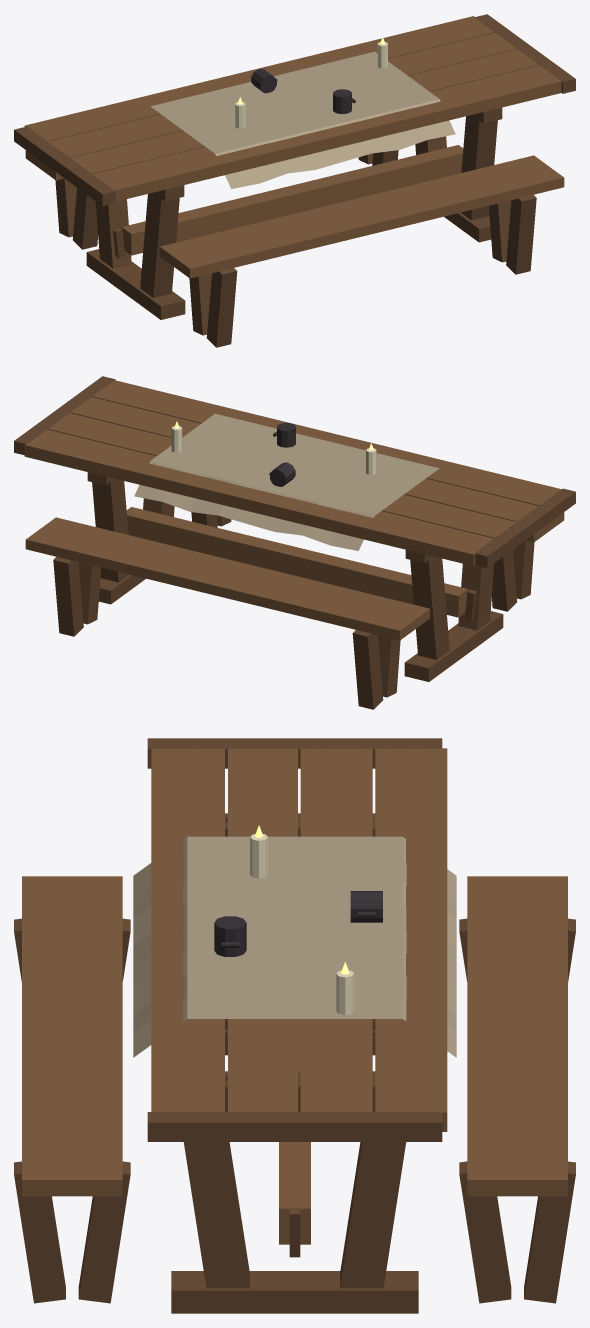
Rendered from SM_Furn_TavernTable_02.glb.
3 renders of one model, top to bottom at view 1: azimuth 30°, elevation 25°; view 2: azimuth 150°, elevation 25°; view 3: azimuth 270°, elevation 25°, orthographic. The views are drawn at different scales.
Parts seen in each view (by area): view 1: SM_Furn_TavernTable_02_Cloth, SM_Furn_TavernTable_02_BenchTop0, SM_Furn_TavernTable_02_TopPlank0, SM_Furn_TavernTable_02_Stretcher, SM_Furn_TavernTable_02_TopPlank3, SM_Furn_TavernTable_02_TopPlank2, SM_Furn_TavernTable_02_TopPlank1, SM_Furn_TavernTable_02_Leg00, SM_Furn_TavernTable_02_EndCap-1, SM_Furn_TavernTable_02_Foot0, SM_Furn_TavernTable_02_BenchLeg010, SM_Furn_TavernTable_02_BenchLeg000 (+10 smaller); view 2: SM_Furn_TavernTable_02_Cloth, SM_Furn_TavernTable_02_BenchTop1, SM_Furn_TavernTable_02_TopPlank3, SM_Furn_TavernTable_02_Stretcher, SM_Furn_TavernTable_02_TopPlank0, SM_Furn_TavernTable_02_TopPlank2, SM_Furn_TavernTable_02_TopPlank1, SM_Furn_TavernTable_02_Leg01, SM_Furn_TavernTable_02_EndCap-1, SM_Furn_TavernTable_02_Foot0, SM_Furn_TavernTable_02_BenchLeg111, SM_Furn_TavernTable_02_BenchLeg101 (+10 smaller); view 3: SM_Furn_TavernTable_02_Cloth, SM_Furn_TavernTable_02_BenchTop0, SM_Furn_TavernTable_02_BenchTop1, SM_Furn_TavernTable_02_TopPlank3, SM_Furn_TavernTable_02_TopPlank0, SM_Furn_TavernTable_02_TopPlank2, SM_Furn_TavernTable_02_TopPlank1, SM_Furn_TavernTable_02_Foot1, SM_Furn_TavernTable_02_EndCap1, SM_Furn_TavernTable_02_Leg11, SM_Furn_TavernTable_02_Leg10, SM_Furn_TavernTable_02_BenchLeg011 (+9 smaller).
Boxes of the visible parts, box(x1,y1,x2,y2) form: SM_Furn_TavernTable_02_Cloth: box(150, 51, 455, 188); SM_Furn_TavernTable_02_BenchTop0: box(159, 155, 564, 278); SM_Furn_TavernTable_02_TopPlank0: box(93, 65, 561, 201); SM_Furn_TavernTable_02_Stretcher: box(121, 145, 463, 255); SM_Furn_TavernTable_02_TopPlank3: box(24, 16, 494, 141); SM_Furn_TavernTable_02_TopPlank2: box(48, 33, 516, 158); SM_Furn_TavernTable_02_TopPlank1: box(71, 49, 538, 174); SM_Furn_TavernTable_02_Leg00: box(140, 191, 179, 297); SM_Furn_TavernTable_02_EndCap-1: box(14, 126, 115, 206); SM_Furn_TavernTable_02_Foot0: box(86, 249, 185, 319); SM_Furn_TavernTable_02_BenchLeg010: box(506, 195, 536, 274); SM_Furn_TavernTable_02_BenchLeg000: box(206, 268, 237, 347); SM_Furn_TavernTable_02_Cloth: box(134, 413, 439, 550); SM_Furn_TavernTable_02_BenchTop1: box(25, 517, 430, 640); SM_Furn_TavernTable_02_TopPlank3: box(24, 429, 493, 566); SM_Furn_TavernTable_02_Stretcher: box(126, 507, 468, 617); SM_Furn_TavernTable_02_TopPlank0: box(92, 380, 561, 505); SM_Furn_TavernTable_02_TopPlank2: box(48, 413, 516, 538); SM_Furn_TavernTable_02_TopPlank1: box(70, 397, 538, 521); SM_Furn_TavernTable_02_Leg01: box(410, 556, 449, 659); SM_Furn_TavernTable_02_EndCap-1: box(475, 488, 575, 568); SM_Furn_TavernTable_02_Foot0: box(404, 611, 503, 681); SM_Furn_TavernTable_02_BenchLeg111: box(53, 557, 83, 636); SM_Furn_TavernTable_02_BenchLeg101: box(352, 630, 383, 709); SM_Furn_TavernTable_02_Cloth: box(133, 836, 456, 1057); SM_Furn_TavernTable_02_BenchTop0: box(22, 876, 122, 1196); SM_Furn_TavernTable_02_BenchTop1: box(467, 876, 567, 1196); SM_Furn_TavernTable_02_TopPlank3: box(375, 748, 447, 1131); SM_Furn_TavernTable_02_TopPlank0: box(151, 749, 224, 1112); SM_Furn_TavernTable_02_TopPlank2: box(300, 748, 372, 1112); SM_Furn_TavernTable_02_TopPlank1: box(228, 749, 297, 1111); SM_Furn_TavernTable_02_Foot1: box(171, 1271, 418, 1313); SM_Furn_TavernTable_02_EndCap1: box(147, 1112, 442, 1141); SM_Furn_TavernTable_02_Leg11: box(340, 1095, 406, 1288); SM_Furn_TavernTable_02_Leg10: box(183, 1142, 249, 1288); SM_Furn_TavernTable_02_BenchLeg011: box(78, 1161, 130, 1303).
Bounding box in the file's own units: 2.53 × 0.9158 × 1.56.
